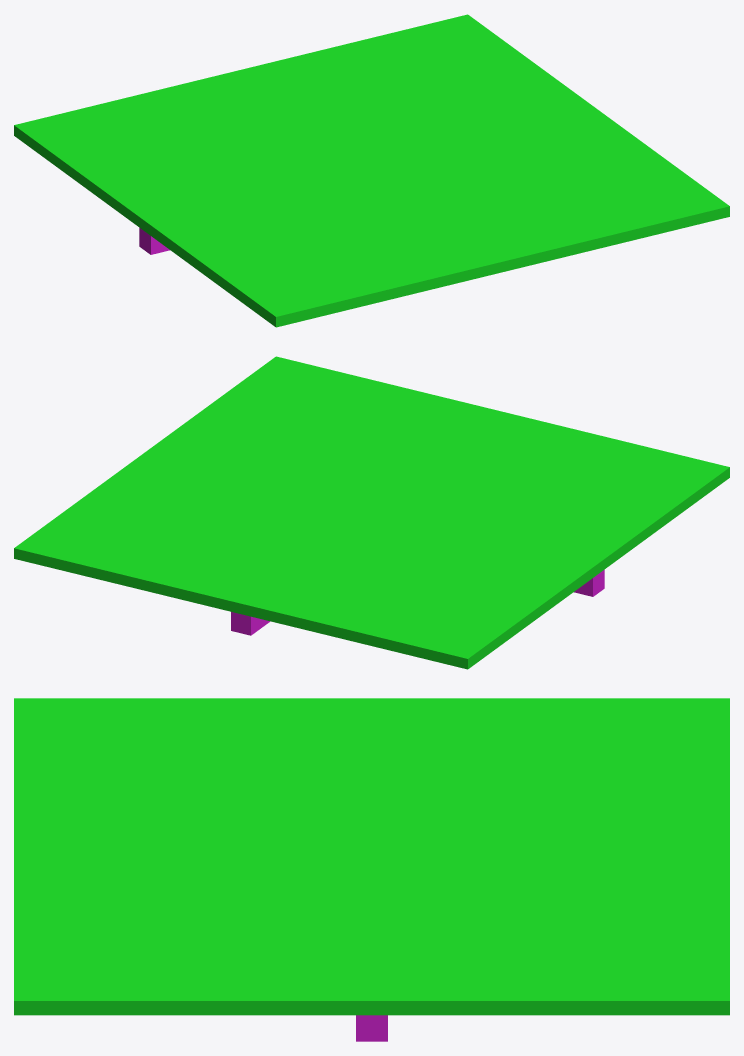
File: Stairs_06_Platform_T.fbx
3 views of the same model, one above another, from view 1: azimuth 30°, elevation 25°; view 2: azimuth 150°, elevation 25°; view 3: azimuth 270°, elevation 25° (orthographic). The views are drawn at different scales.
Parts seen in each view (by area): view 1: Stairs_06_Platform_T; view 2: Stairs_06_Platform_T; view 3: Stairs_06_Platform_T.
Boxes of the visible parts, box(x1,y1,x2,y2) form: Stairs_06_Platform_T: box(14, 14, 729, 327); Stairs_06_Platform_T: box(14, 356, 729, 669); Stairs_06_Platform_T: box(14, 698, 729, 1041).
Bounding box in the file's own units: 229 × 14.29 × 229.
